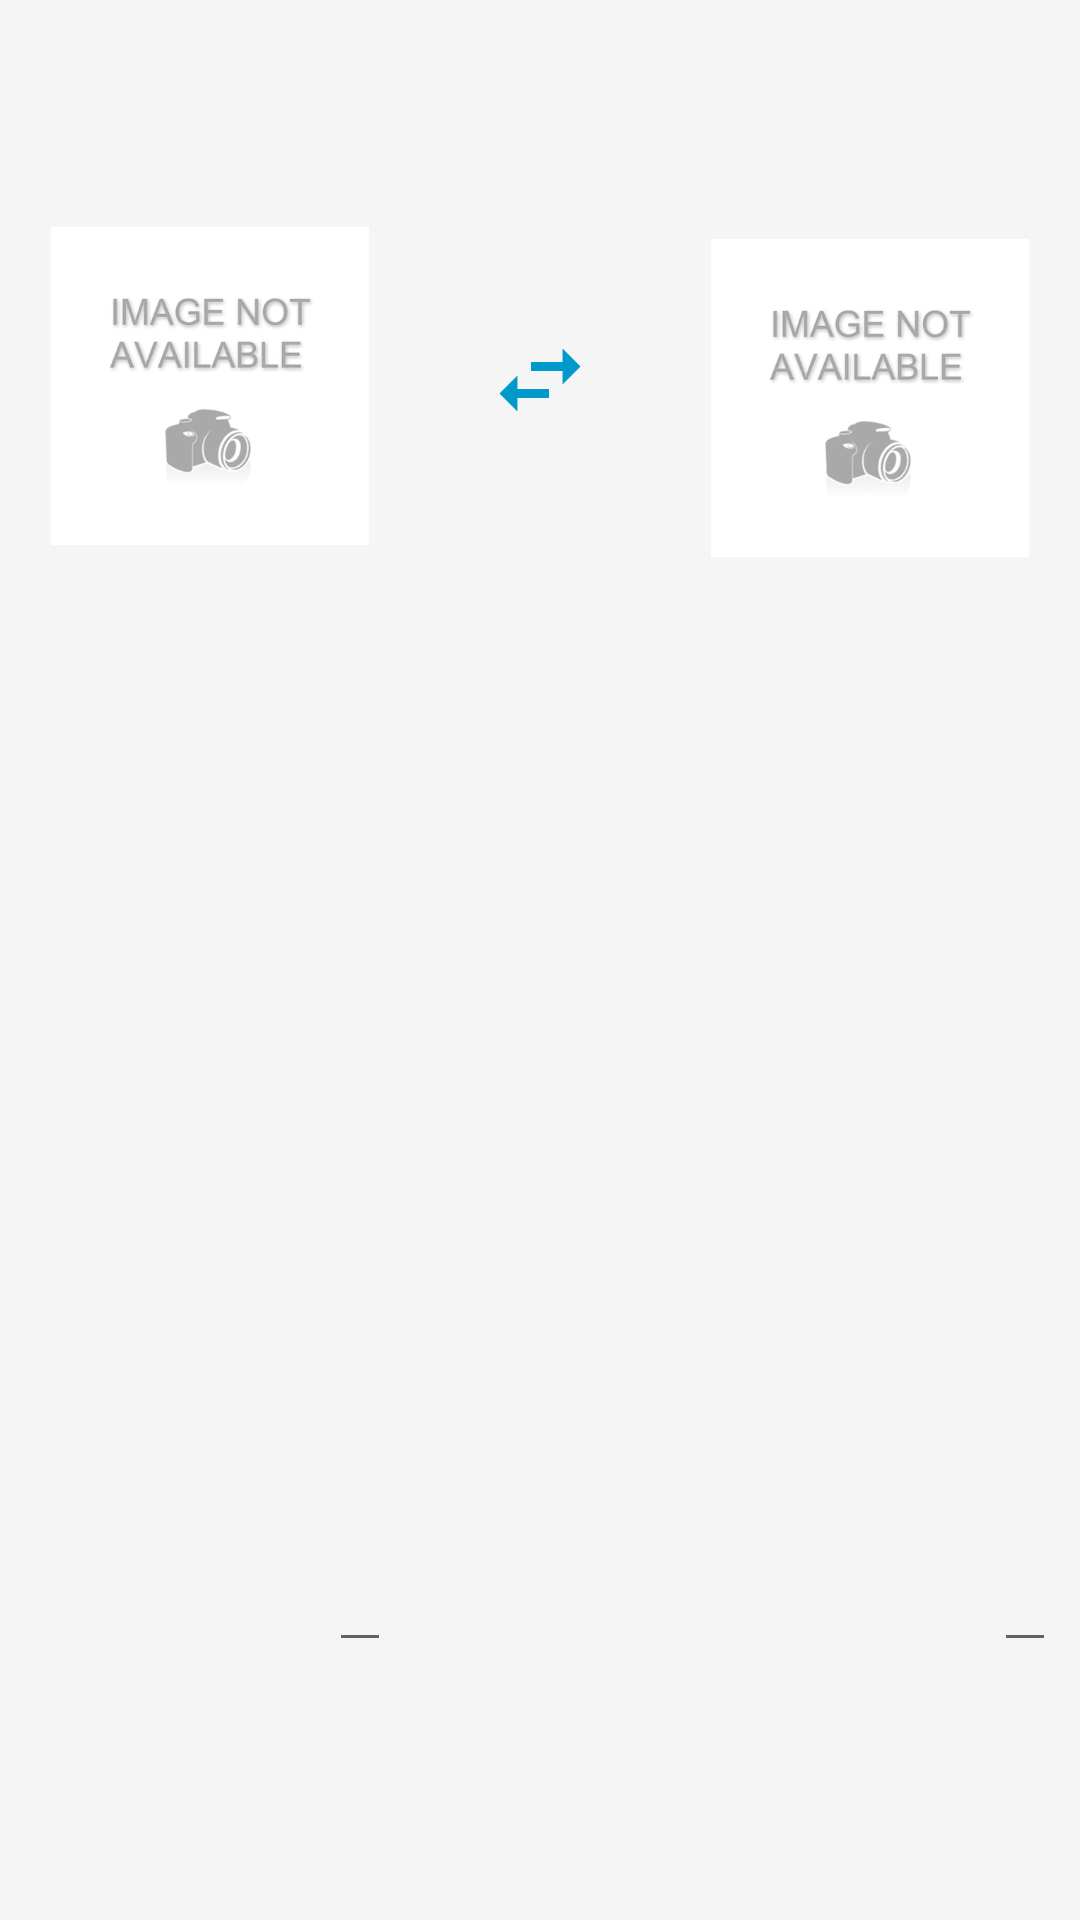

Icons on this 1080x1920 Android screen, each with the point to tap as [x,y]:
swap horiz: [540,380]
